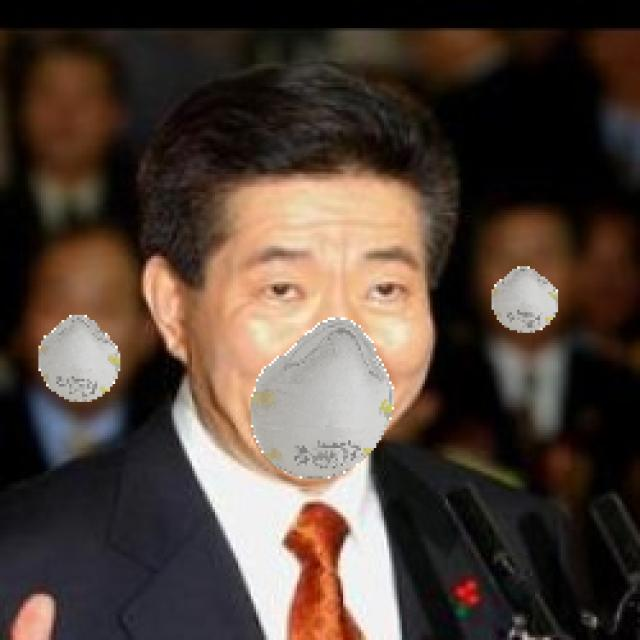mask: (253, 310, 392, 511), (25, 316, 132, 420), (482, 254, 567, 339)
